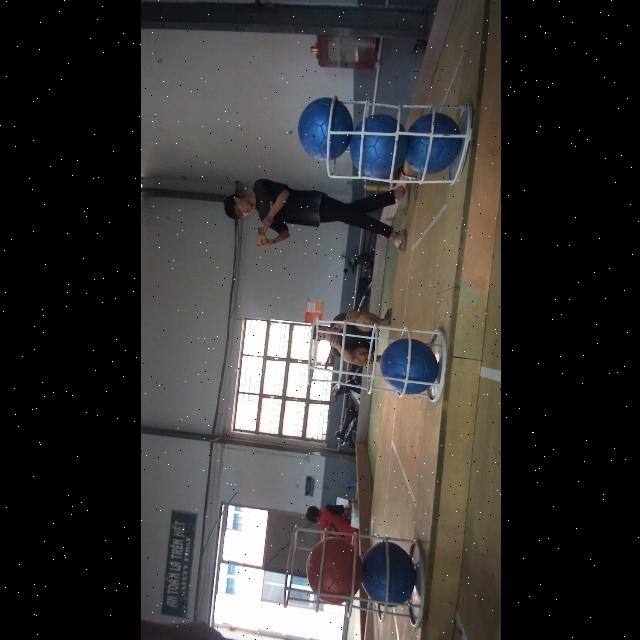B: (348, 114, 406, 178), (403, 112, 462, 174), (361, 541, 415, 607), (296, 96, 349, 162), (378, 338, 438, 394)
R: (305, 538, 361, 604)
